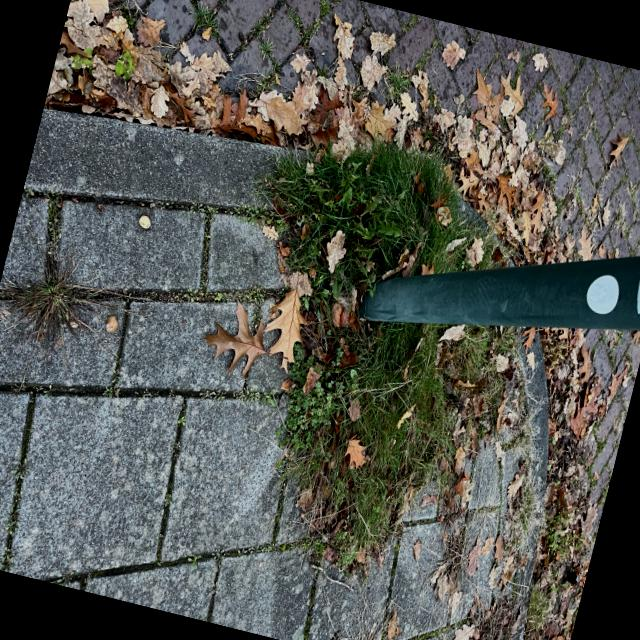leaves: (0, 81, 265, 586)
pavement: (411, 469, 596, 640), (205, 547, 332, 640), (215, 0, 297, 113)
weed: (147, 144, 570, 358)
weedling: (195, 364, 311, 457)
